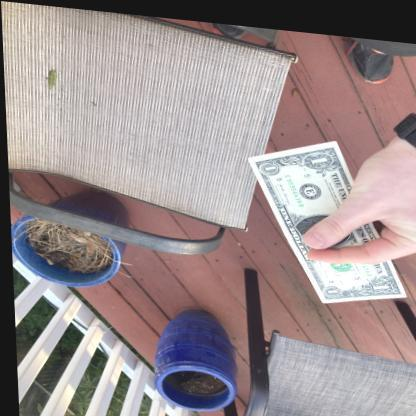dollar_front: (244, 132, 403, 295)
